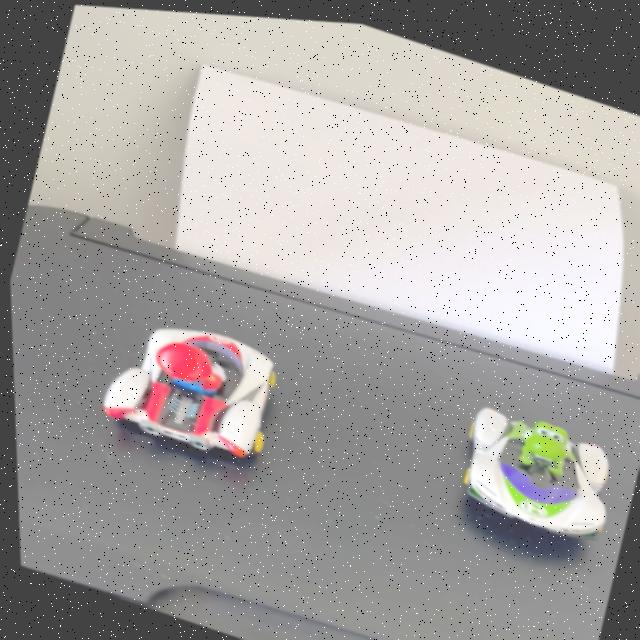mario: (75, 288, 298, 486)
yoshi: (434, 380, 635, 550)
